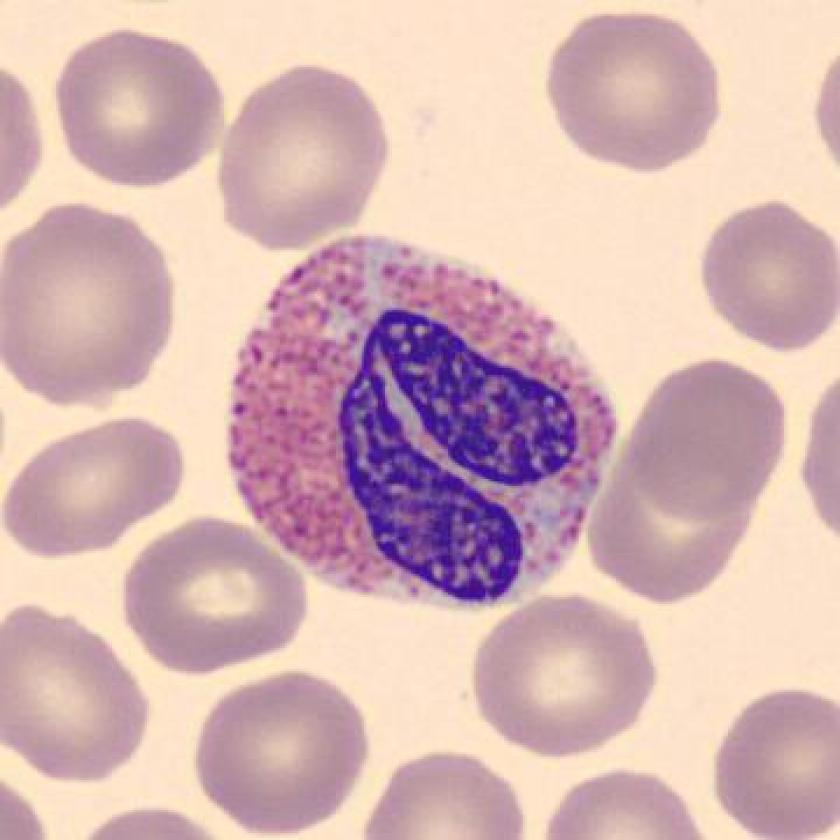eosinophil: (218, 216, 633, 624)
